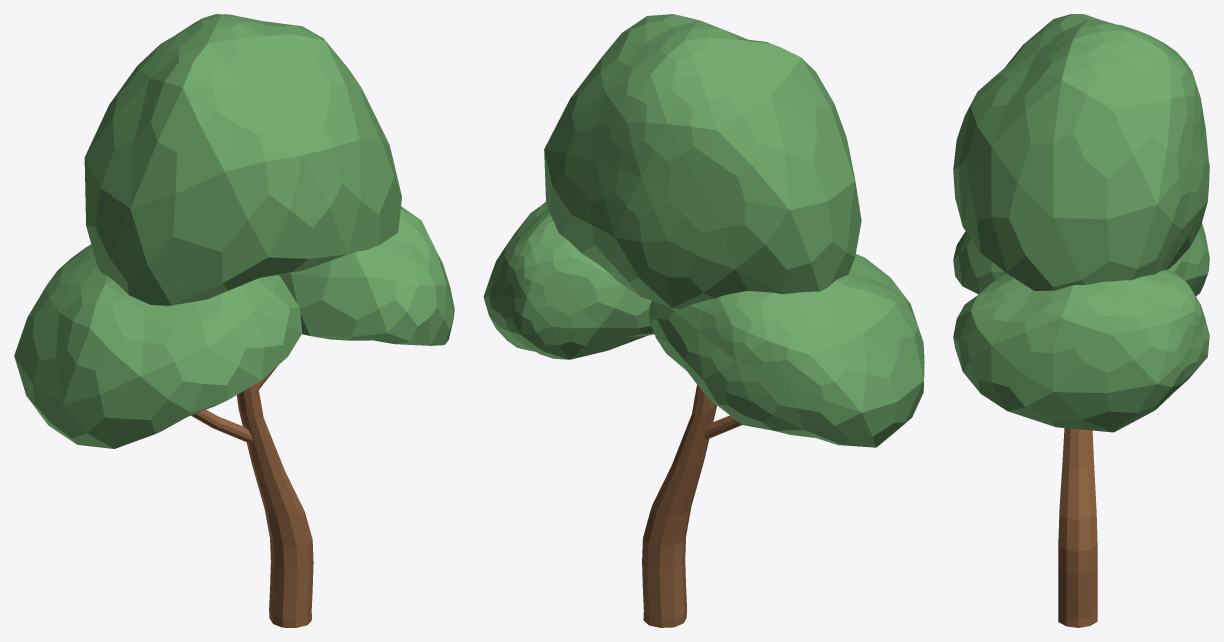
File: tree_park_b.glb
3 views of the same model, side by side, from view 1: azimuth 30°, elevation 25°; view 2: azimuth 150°, elevation 25°; view 3: azimuth 270°, elevation 25° (orthographic). The views are drawn at different scales.
Visible parts, largest first — view 1: Tree2; view 2: Tree2; view 3: Tree2.
Boxes of the visible parts, x1,y1,x2,y2 form: Tree2: (14,14,454,627); Tree2: (483,14,924,627); Tree2: (953,14,1209,627).
Bounding box in the file's own units: 3.73 × 5.57 × 2.26.
